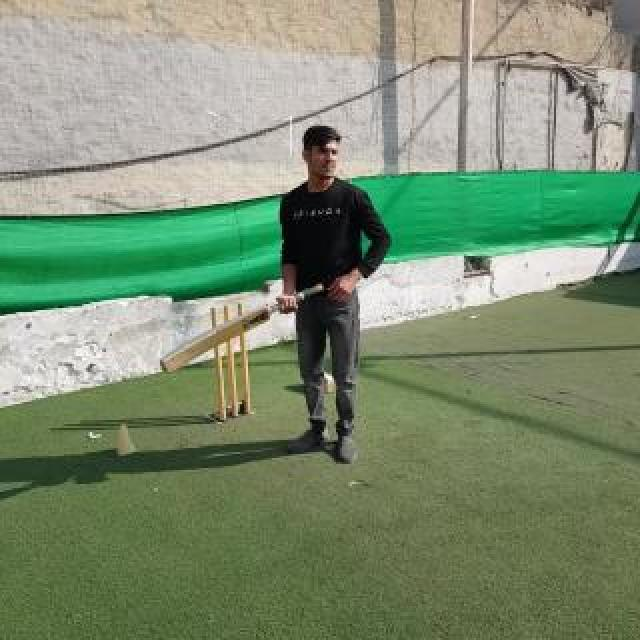bat: (160, 284, 324, 374)
